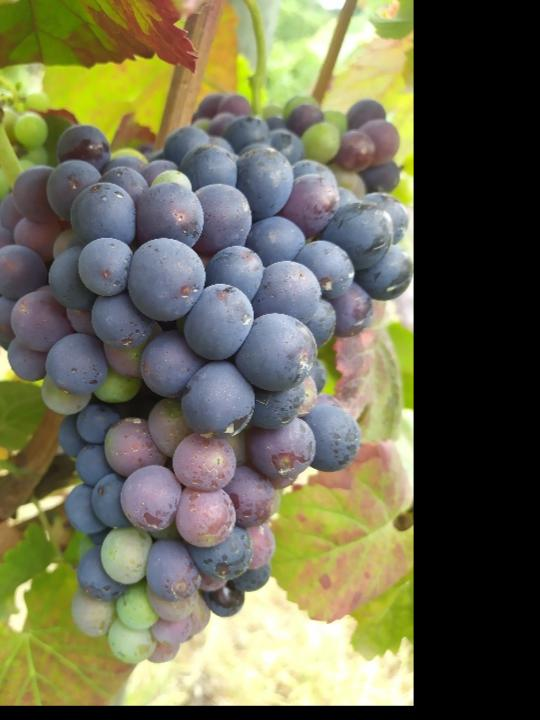grape: (0, 121, 414, 669)
